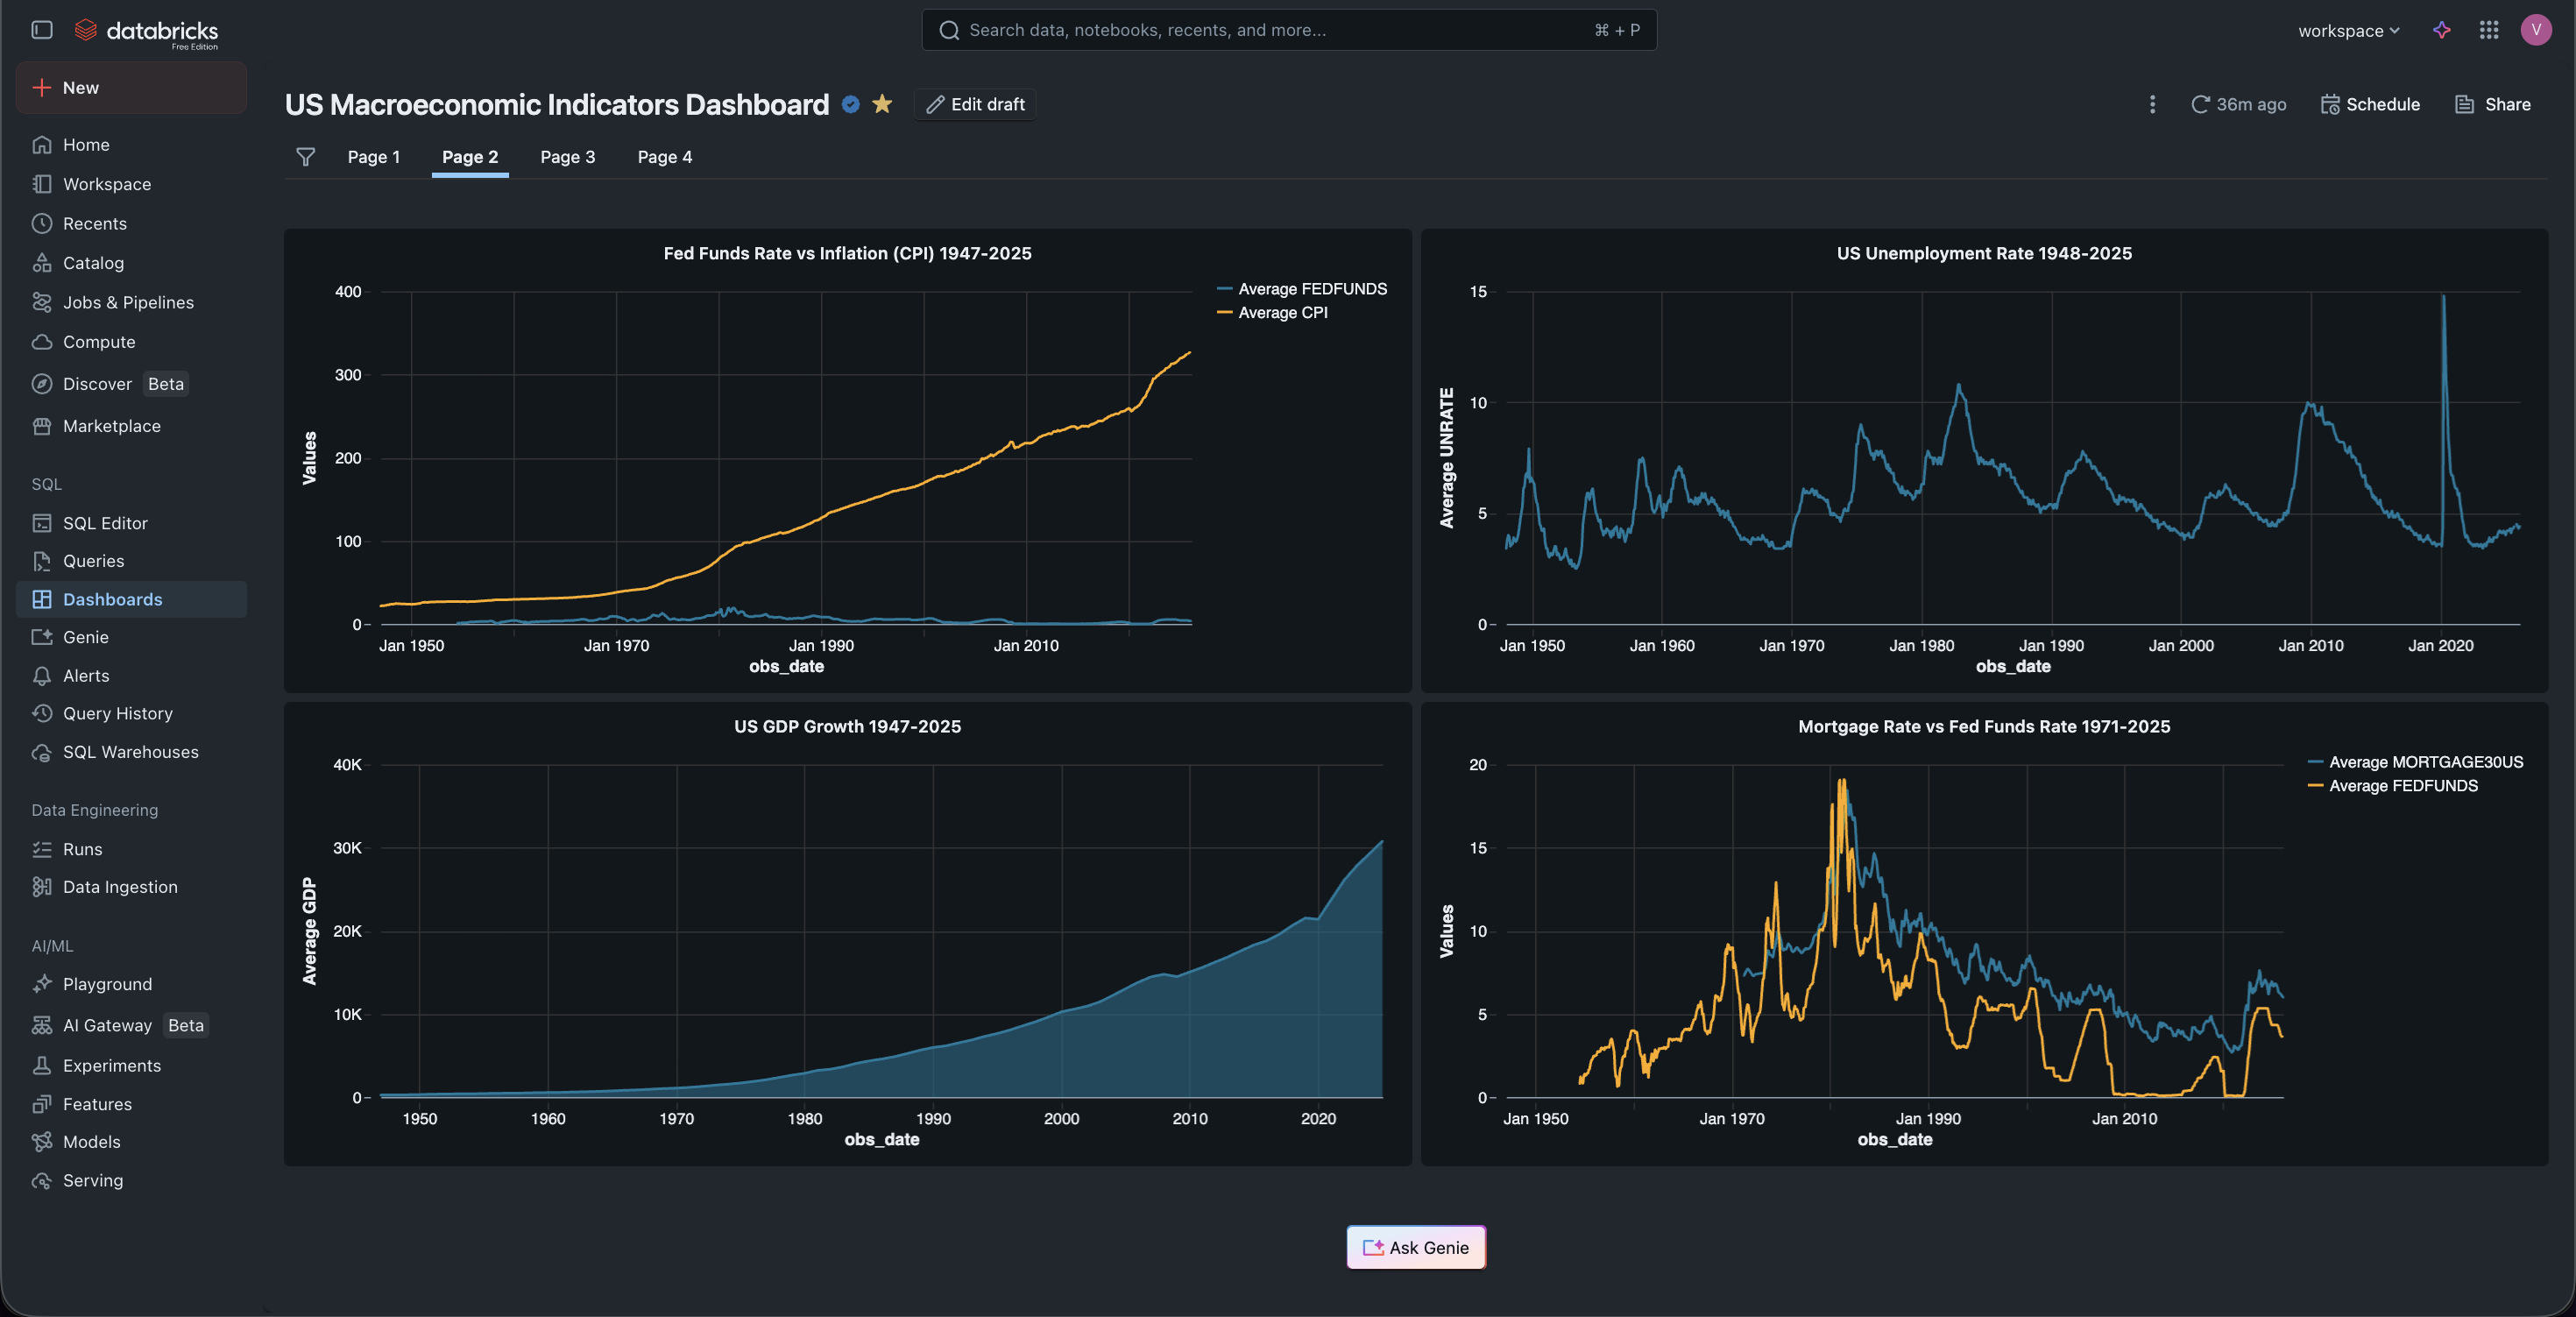

The dashboard page shown, as its layout file describes it:
{"tool":"powerbi","page":{"name":"Page 2","canvas":[1280,720],"ordinal":1},"visuals":[{"type":"lineChart","title":"Fed Funds Rate vs Inflation (CPI)","fields":{"Category":["wide_macro_indicators.obs_date"],"Y":["Avg(wide_macro_indicators.CPI)","Avg(wide_macro_indicators.FEDFUNDS)"]},"box":[0,0,640.6,359.7],"z":0},{"type":"lineChart","title":"US Unemployment Rate","fields":{"Category":["wide_macro_indicators.obs_date"],"Y":["Avg(wide_macro_indicators.UNRATE)"]},"box":[640.6,0,639.4,325.4],"z":1000},{"type":"areaChart","title":"US GDP Growth","fields":{"Category":["wide_macro_indicators.obs_date.Variation.Date Hierarchy.Year"],"Y":["Avg(wide_macro_indicators.GDP)"]},"box":[0,370,641,350],"z":2000},{"type":"lineChart","title":"Mortgage Rate vs Fed Funds Rate","fields":{"Category":["wide_macro_indicators.obs_date"],"Y":["Avg(wide_macro_indicators.MORTGAGE30US)","Avg(wide_macro_indicators.FEDFUNDS)"]},"box":[641,370,639,350],"z":3000}]}

Visuals, with their boxes on the page's 1280x720 design canvas (x1, y1, x2, y2). These are canvas units, not pixel positions in the 2576x1317 screenshot, which may show the page scaled, cropped or inside an application window:
"Fed Funds Rate vs Inflation (CPI)" lineChart: bbox(0, 0, 641, 360)
"US Unemployment Rate" lineChart: bbox(641, 0, 1280, 325)
"US GDP Growth" areaChart: bbox(0, 370, 641, 720)
"Mortgage Rate vs Fed Funds Rate" lineChart: bbox(641, 370, 1280, 720)
